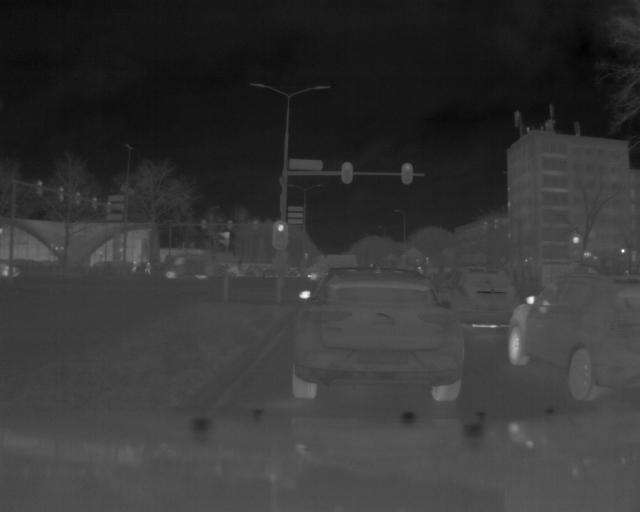car: (288, 263, 467, 403), (507, 270, 640, 401), (448, 265, 518, 327), (163, 251, 217, 281), (303, 253, 359, 279)
